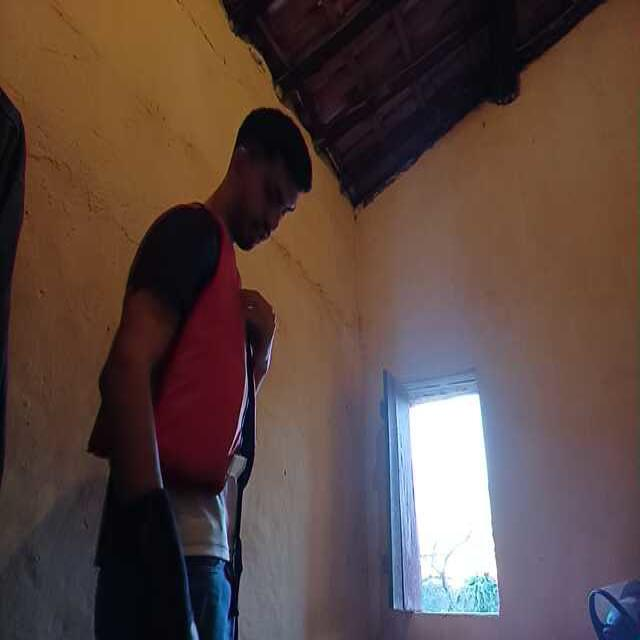capacete: (583, 577, 640, 640)
colete: (141, 190, 254, 487)
pessoa: (102, 101, 315, 640)
